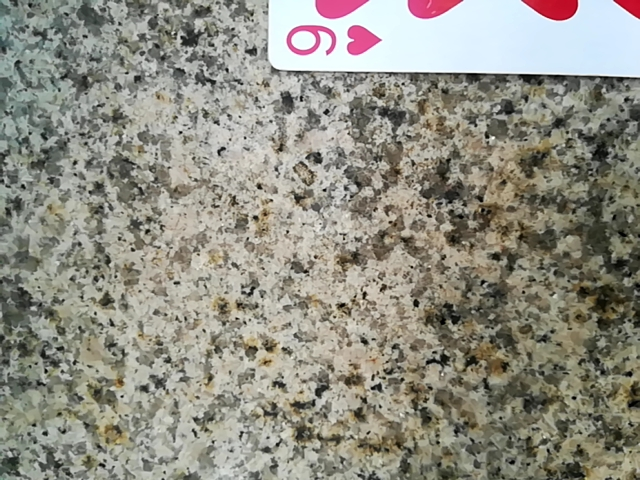hx 9: (255, 2, 635, 77)
